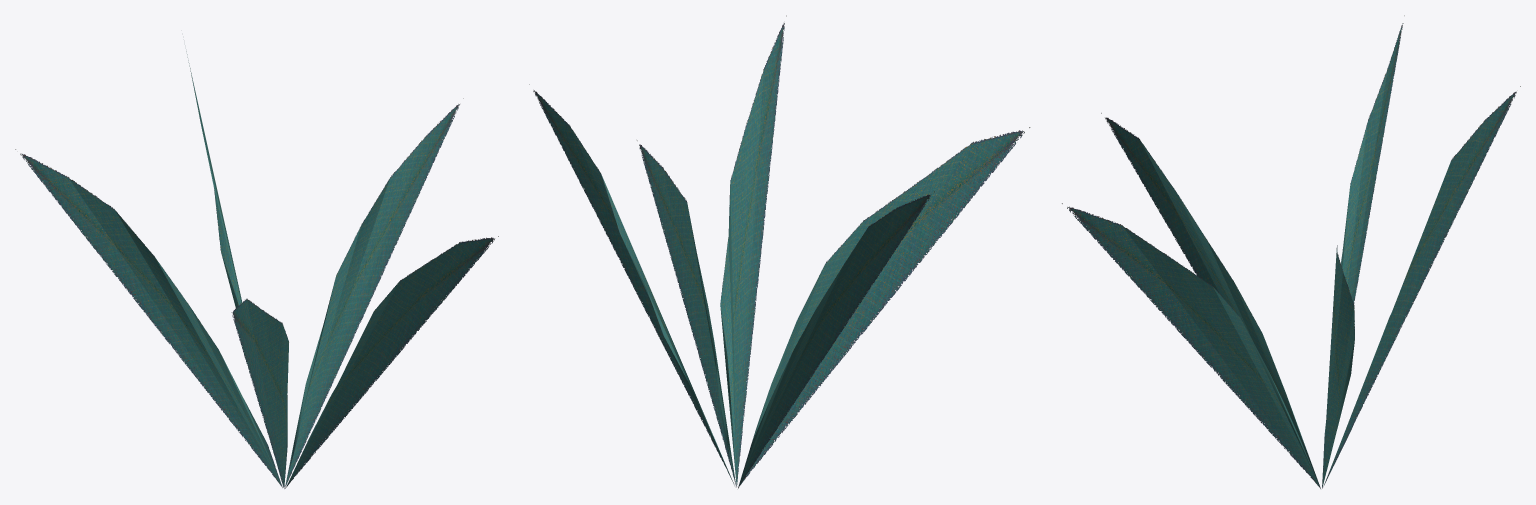
Rendered from neon.obj.
The picture shows the model from 3 angles, left to right: view 1: azimuth 30°, elevation 25°; view 2: azimuth 150°, elevation 25°; view 3: azimuth 270°, elevation 25°; orthographic projection. The views are drawn at different scales.
Bounding box in the file's own units: 11.19 × 10.41 × 10.78.
